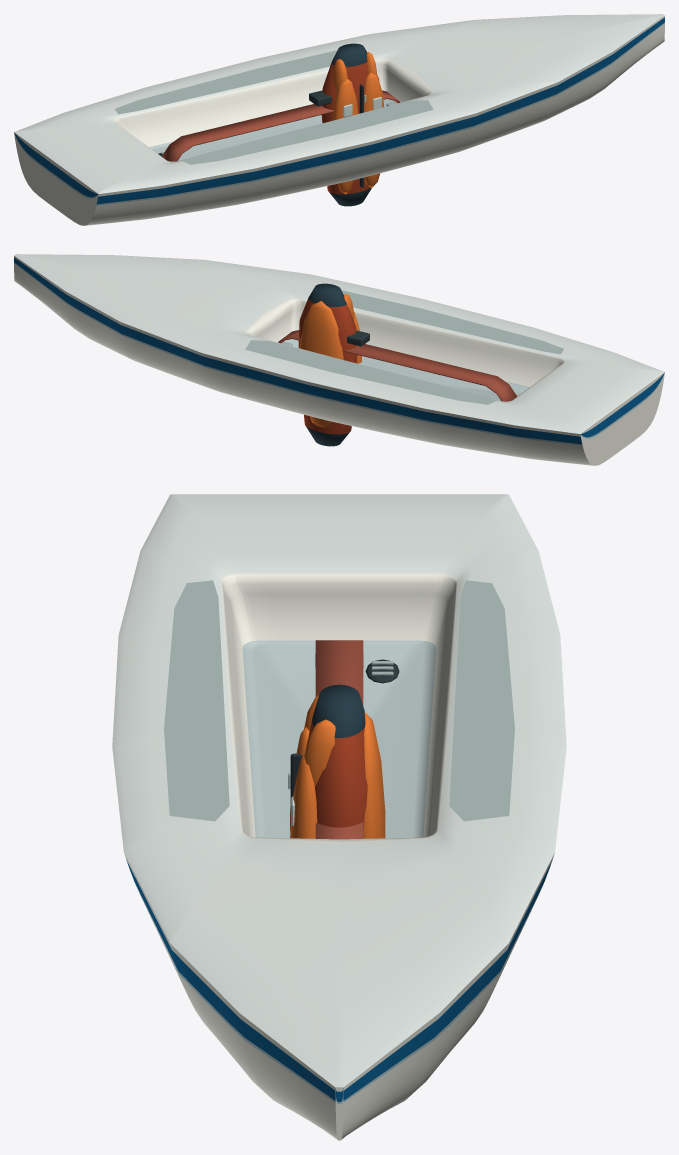
File: laser.glb
3 renders of one model, top to bottom at view 1: azimuth 30°, elevation 25°; view 2: azimuth 150°, elevation 25°; view 3: azimuth 270°, elevation 25°, orthographic. The views are drawn at different scales.
Parts seen in each view (by area): view 1: Deck, Hull, Fittings, Vest; view 2: Deck, Hull, Fittings, Vest; view 3: Deck, Fittings, Hull, Vest.
Part boxes in pixels (x1,y1,x2,y2): Deck: (14, 14, 664, 193); Hull: (14, 16, 664, 225); Fittings: (115, 50, 433, 164); Vest: (321, 43, 384, 206); Deck: (14, 254, 664, 433); Hull: (14, 256, 664, 465); Fittings: (245, 290, 563, 404); Vest: (298, 283, 361, 446); Deck: (112, 494, 566, 1087); Fittings: (164, 580, 514, 839); Hull: (124, 853, 554, 1140); Vest: (288, 684, 385, 838).
Bounding box in the file's own units: 4.23 × 1.02 × 1.37.
